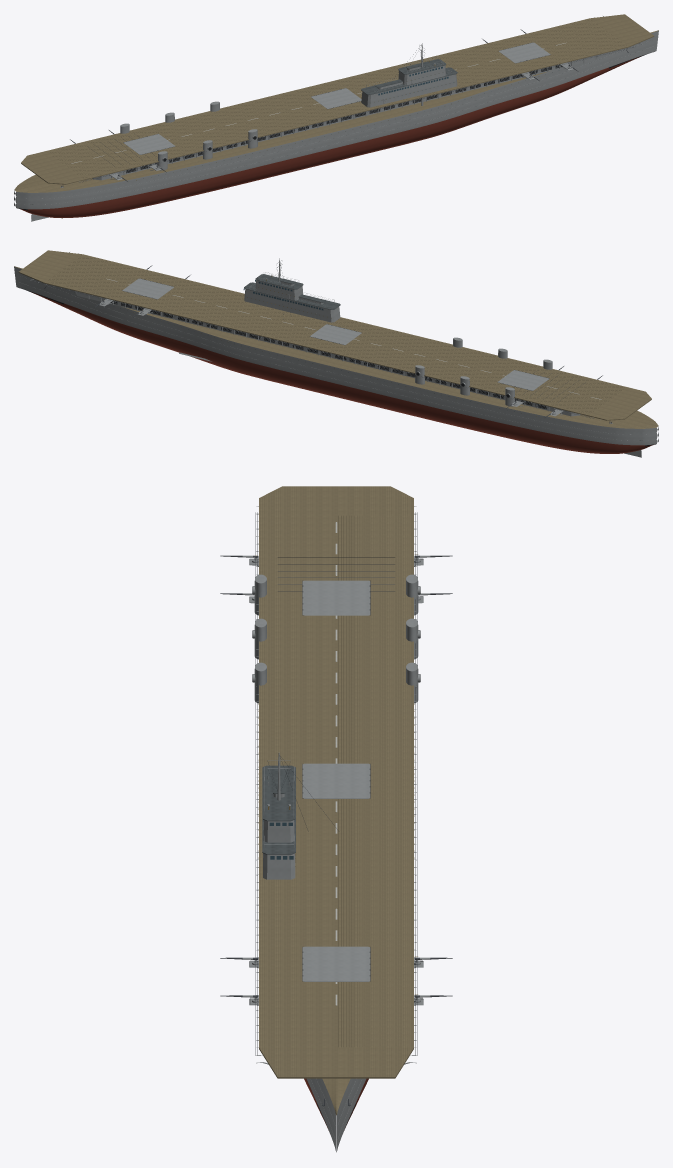
File: ranger_cv29.glb
3 renders of one model, top to bottom at view 1: azimuth 30°, elevation 25°; view 2: azimuth 150°, elevation 25°; view 3: azimuth 270°, elevation 25°, orthographic. The views are drawn at different scales.
Visible parts, largest first — view 1: Ranger; view 2: Ranger; view 3: Ranger.
Part boxes in pixels (bbox=[...]): Ranger: bbox=[14, 14, 658, 221]; Ranger: bbox=[14, 250, 658, 457]; Ranger: bbox=[220, 486, 452, 1152].
Bounding box in the file's own units: 234 × 34.25 × 36.52.
9 materials, 8 textured.
